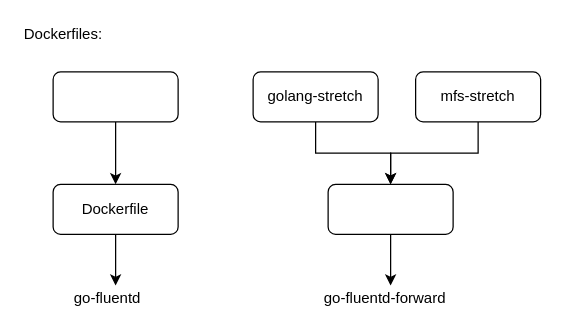
Some shapes in this 563 by 331 pixel diagram are drawn without their labels. The centre of each missing label's shape, as x and y in pixels:
"forward" belongs at point (390, 208).
"gobase" belongs at point (115, 96).
